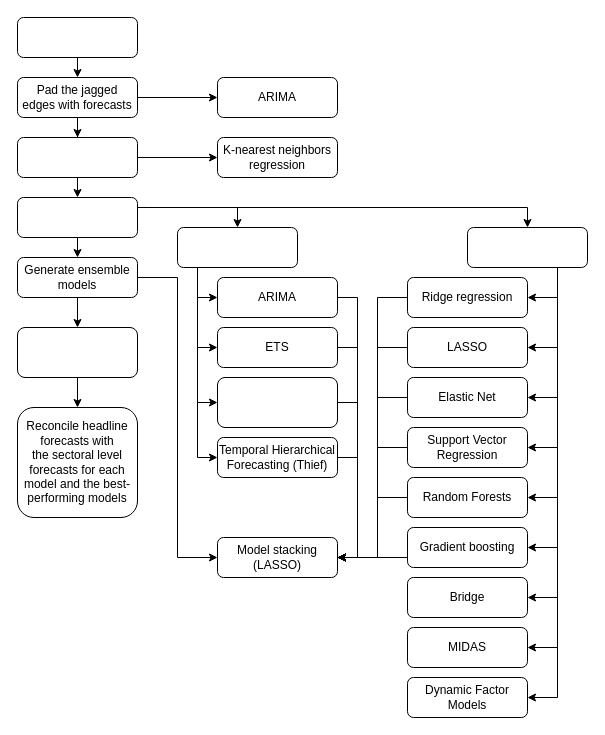
The diagram is 605 pixels wide and 735 high, and some of its shapes have lost their labels. Each missing label, with the centre of its shape:
"Data" goes at (x=77, y=37).
"Generate nowcasts" goes at (x=77, y=217).
"Identify best performing models using RMSE" goes at (x=77, y=352).
"Impute missing data" goes at (x=77, y=157).
"Multivariate" goes at (x=527, y=247).
"Neural Network Autoregression (NNAR)" goes at (x=277, y=402).
"Univariate" goes at (x=237, y=247).
